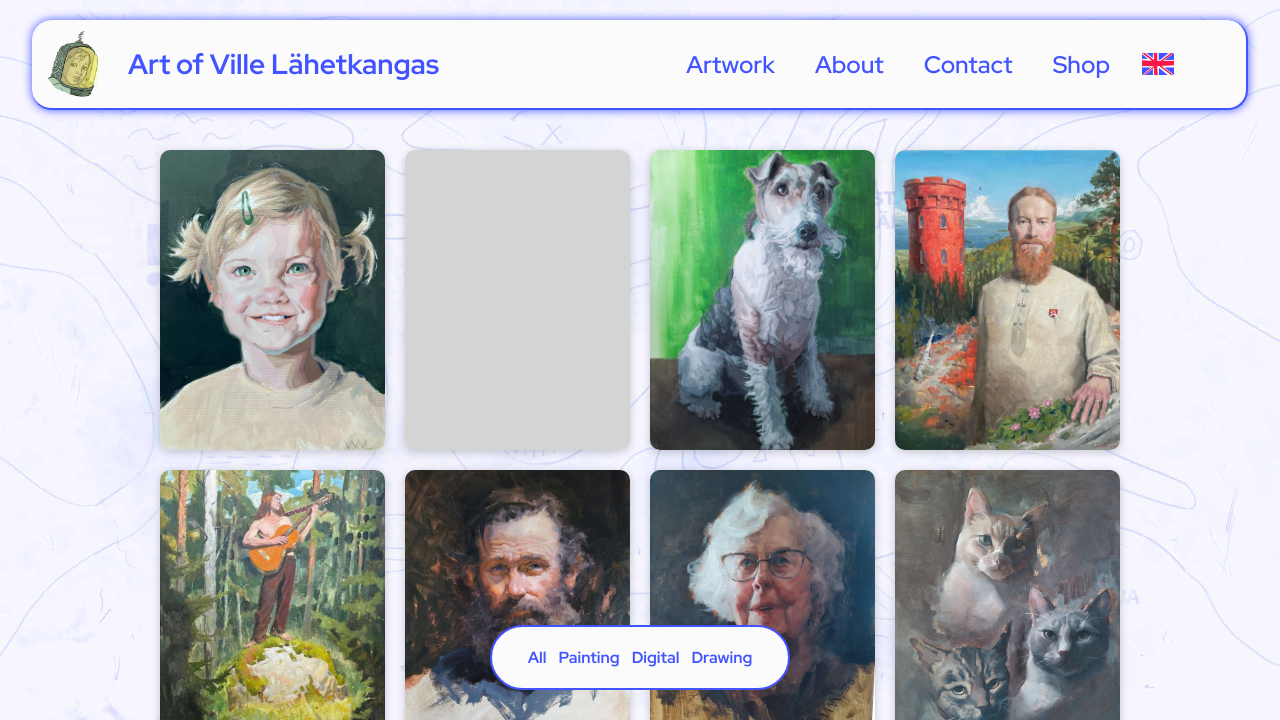
Test: Header i18n › toggles language and updates header title and nav labels
Check: the heading "Art of Ville Lähetkangas" is shown, box 128,45 -> 439,83
Check: the link "About" is shown, box 795,48 -> 904,80
Toggle to Finnish
Click the button with test id "lang-toggle".
click(1158, 64)  # box 1136,36 -> 1180,92
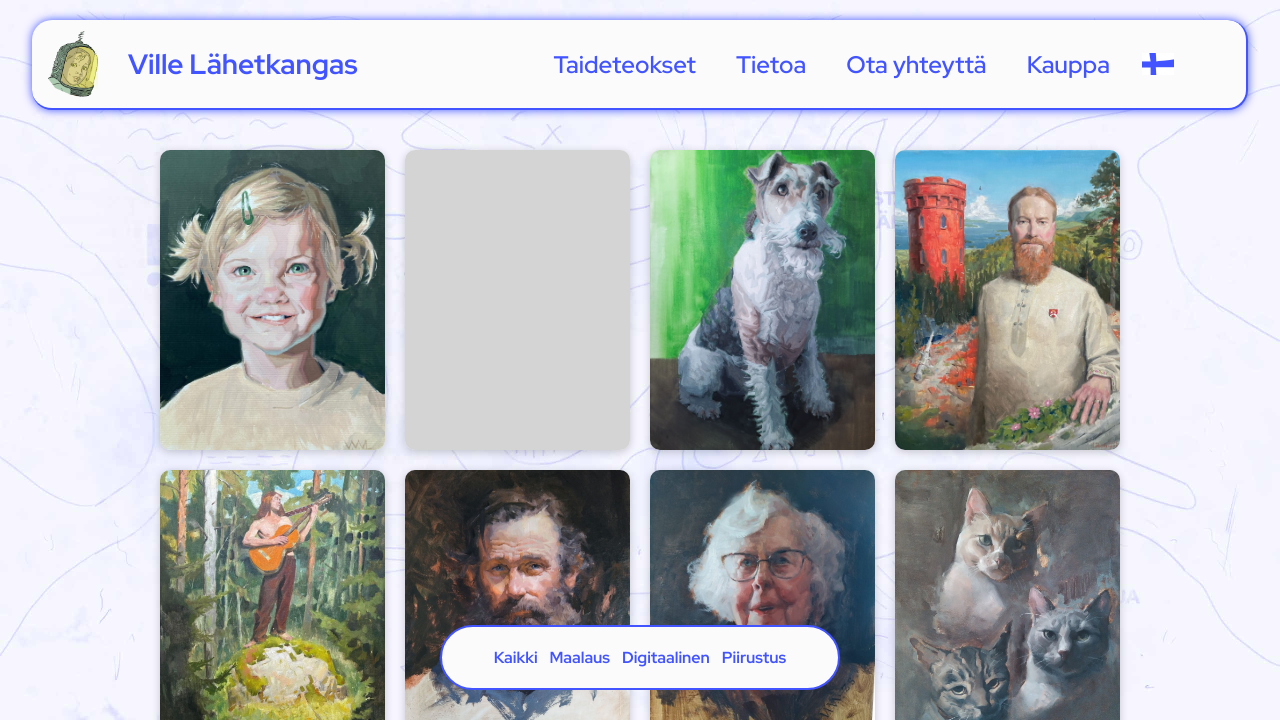
Check: the heading "Ville Lähetkangas" is shown, box 128,45 -> 358,83
Check: the link "Tietoa" is shown, box 716,48 -> 826,80
Toggle back to English
Click the button with test id "lang-toggle".
click(1158, 64)  # box 1136,36 -> 1180,92
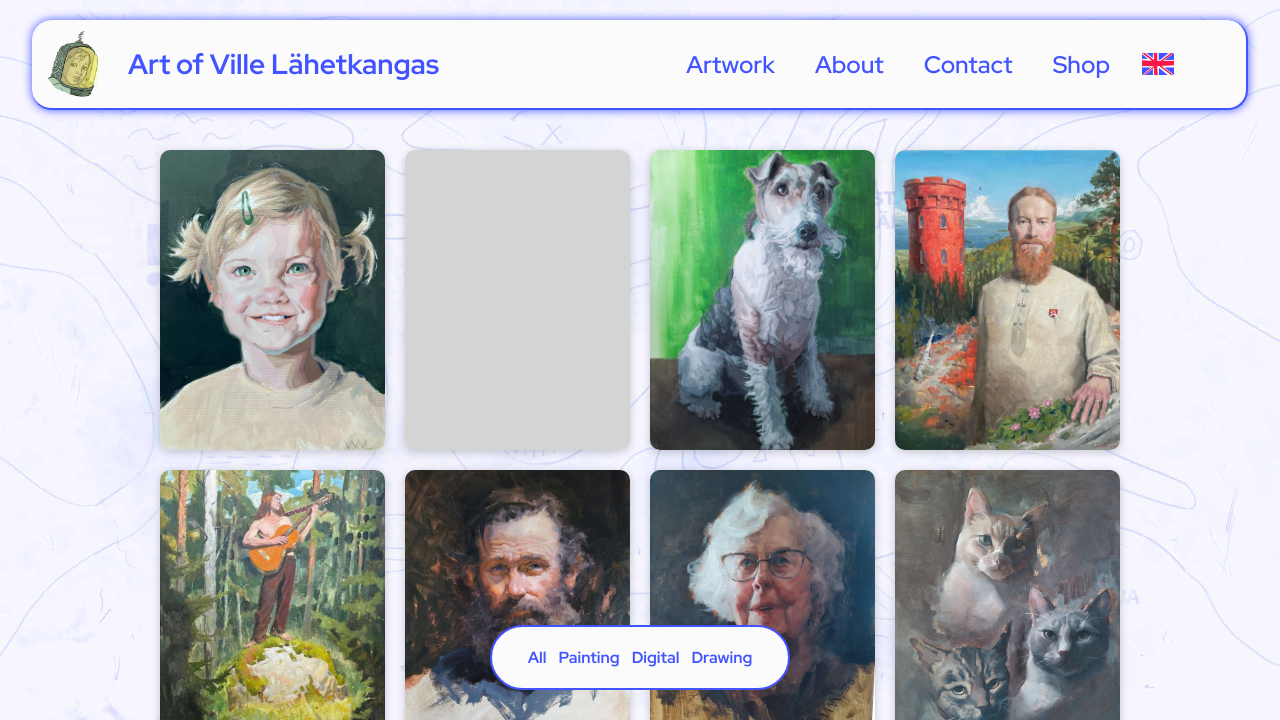
Check: the heading "Art of Ville Lähetkangas" is shown, box 128,45 -> 439,83
